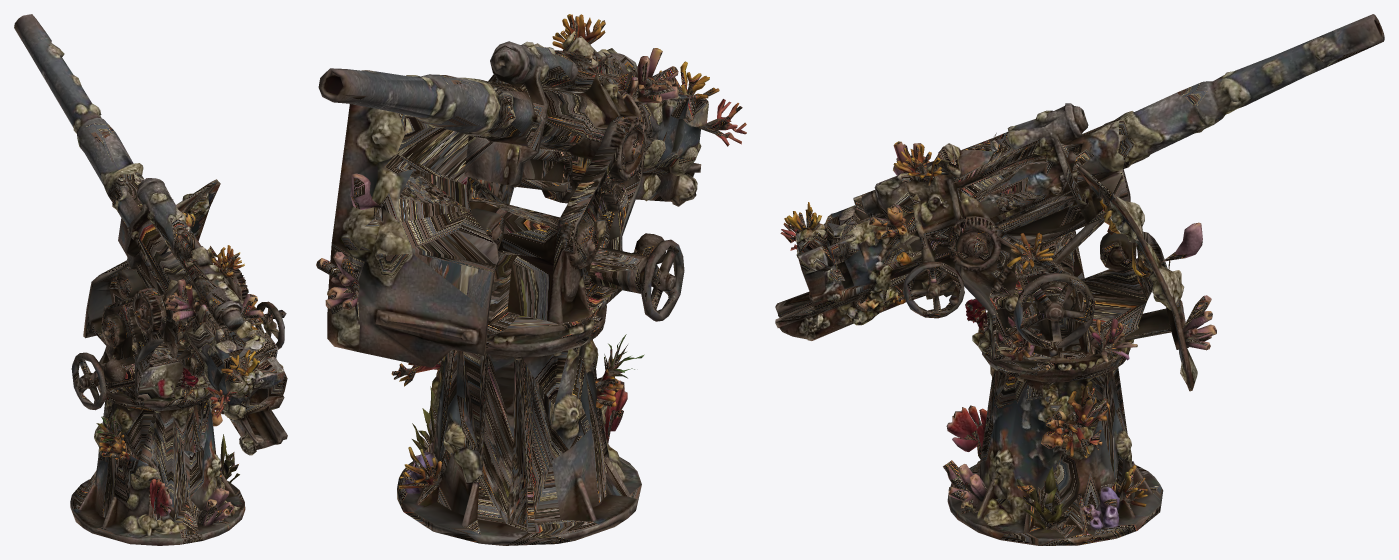
File: kanon.glb
The picture shows the model from 3 angles, left to right: view 1: azimuth 30°, elevation 25°; view 2: azimuth 150°, elevation 25°; view 3: azimuth 270°, elevation 25°; orthographic projection. The views are drawn at different scales.
Parts seen in each view (by area): view 1: tripo_node_f015dc30-f47e-42bb-9681-5992e4312cf2; view 2: tripo_node_f015dc30-f47e-42bb-9681-5992e4312cf2; view 3: tripo_node_f015dc30-f47e-42bb-9681-5992e4312cf2.
Part boxes in pixels (x1,y1,x2,y2): tripo_node_f015dc30-f47e-42bb-9681-5992e4312cf2: (14,14,287,545); tripo_node_f015dc30-f47e-42bb-9681-5992e4312cf2: (316,14,746,545); tripo_node_f015dc30-f47e-42bb-9681-5992e4312cf2: (775,14,1384,545).
Size of the model in its own units: 0.5766 by 1.19 by 1.36.
Materials: 1 (1 with a texture image).
